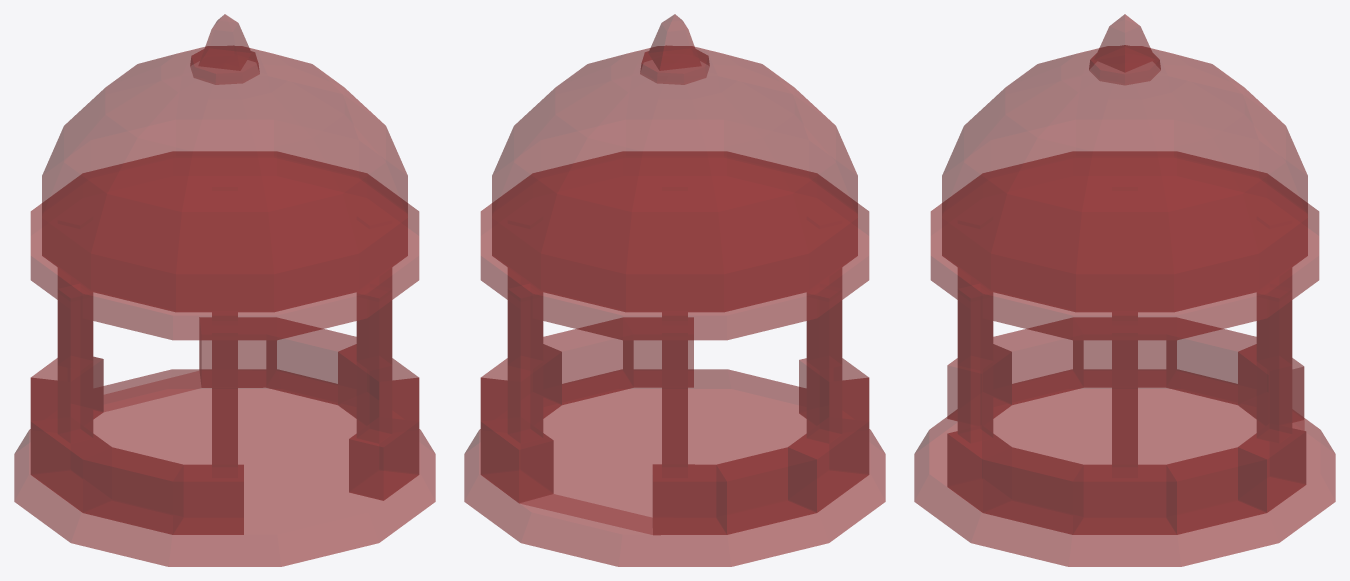
Rendered from SM_Prop_Pergola_01_Collision.fbx.
3 views of the same model, side by side, from view 1: azimuth 30°, elevation 25°; view 2: azimuth 150°, elevation 25°; view 3: azimuth 270°, elevation 25° (orthographic).
Parts seen in each view (by area): view 1: SM_Prop_Pergola_01_Collision; view 2: SM_Prop_Pergola_01_Collision; view 3: SM_Prop_Pergola_01_Collision.
Part boxes in pixels (x1,y1,x2,y2): SM_Prop_Pergola_01_Collision: (14, 14, 435, 566); SM_Prop_Pergola_01_Collision: (464, 14, 885, 566); SM_Prop_Pergola_01_Collision: (914, 14, 1335, 566).
Bounding box in the file's own units: 525 × 638 × 525.
